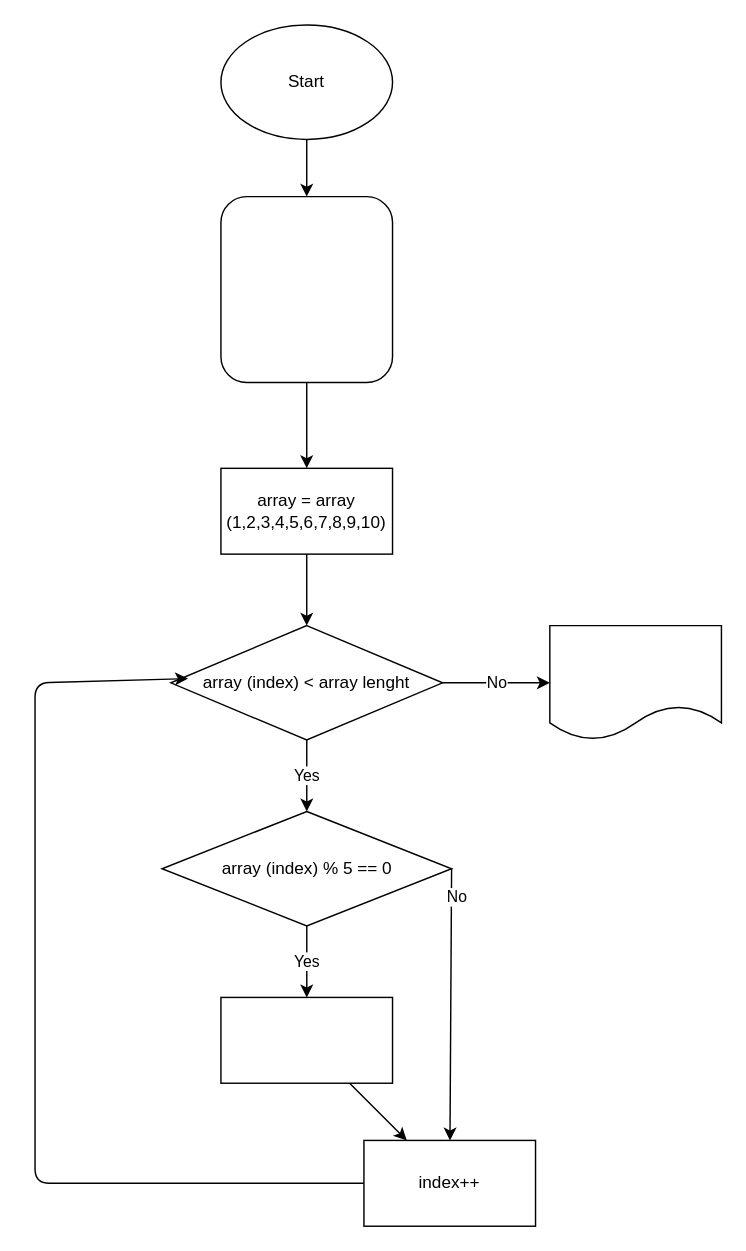
The diagram is 746 pixels wide and 1251 high, and some of its shapes have lost their labels. The shapes that lost their labels are listed below. From the top down, each one's centre as x and y in pixels, then its label:
point 306,289: array array (index) = 0 array lenght a = 5 new array fix
point 634,682: print new array (fix)
point 306,1039: fix array(index)
